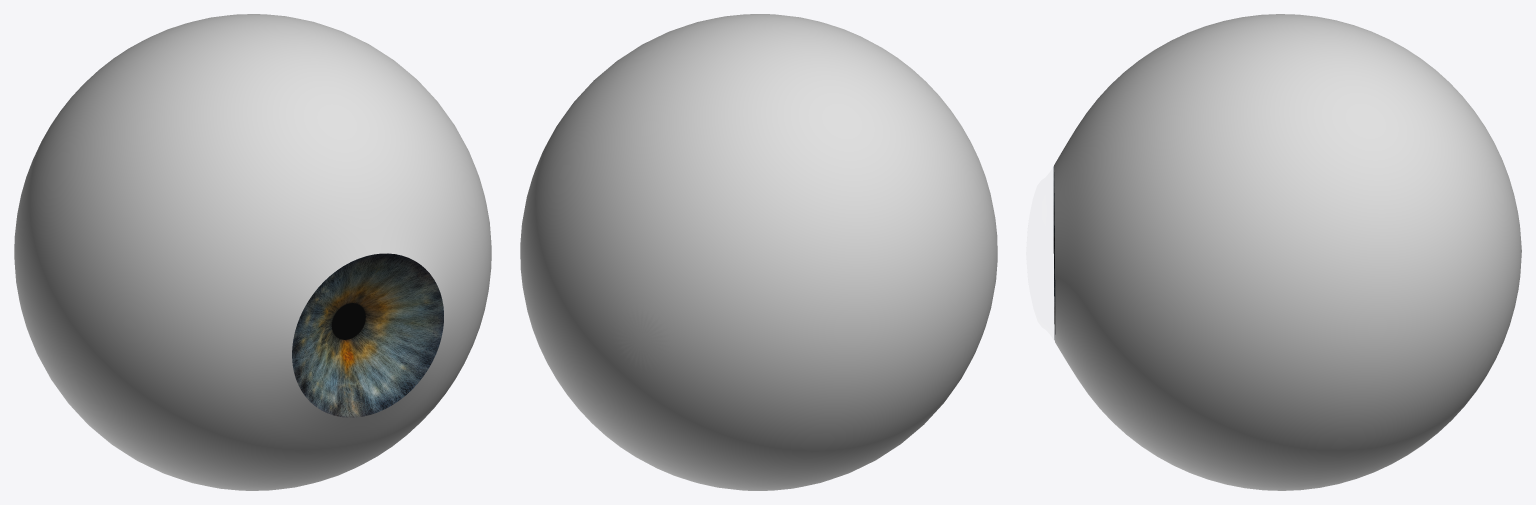
The model's file is eye.glb.
3 renders of one model, left to right at view 1: azimuth 30°, elevation 25°; view 2: azimuth 150°, elevation 25°; view 3: azimuth 270°, elevation 25°, orthographic.
Visible parts, largest first — view 1: Sclera, Iris, Pupil; view 2: Sclera; view 3: Sclera.
Part boxes in pixels (x1=…): Sclera: x1=14, y1=14, x2=491, y2=490; Iris: x1=292, y1=253, x2=443, y2=417; Pupil: x1=331, y1=303, x2=365, y2=339; Sclera: x1=520, y1=14, x2=997, y2=490; Sclera: x1=1054, y1=14, x2=1521, y2=490.
Size of the model in its own units: 1.98 by 1.98 by 2.06.
4 materials, 1 textured.
